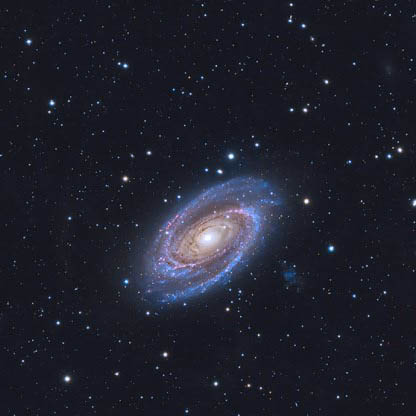Messier 81: (129, 152, 305, 313)
